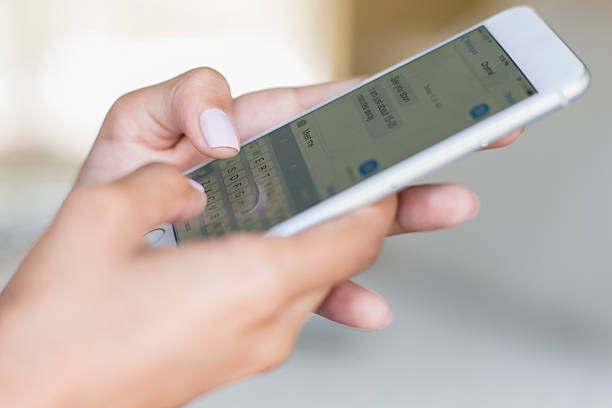phone: (136, 5, 592, 244)
